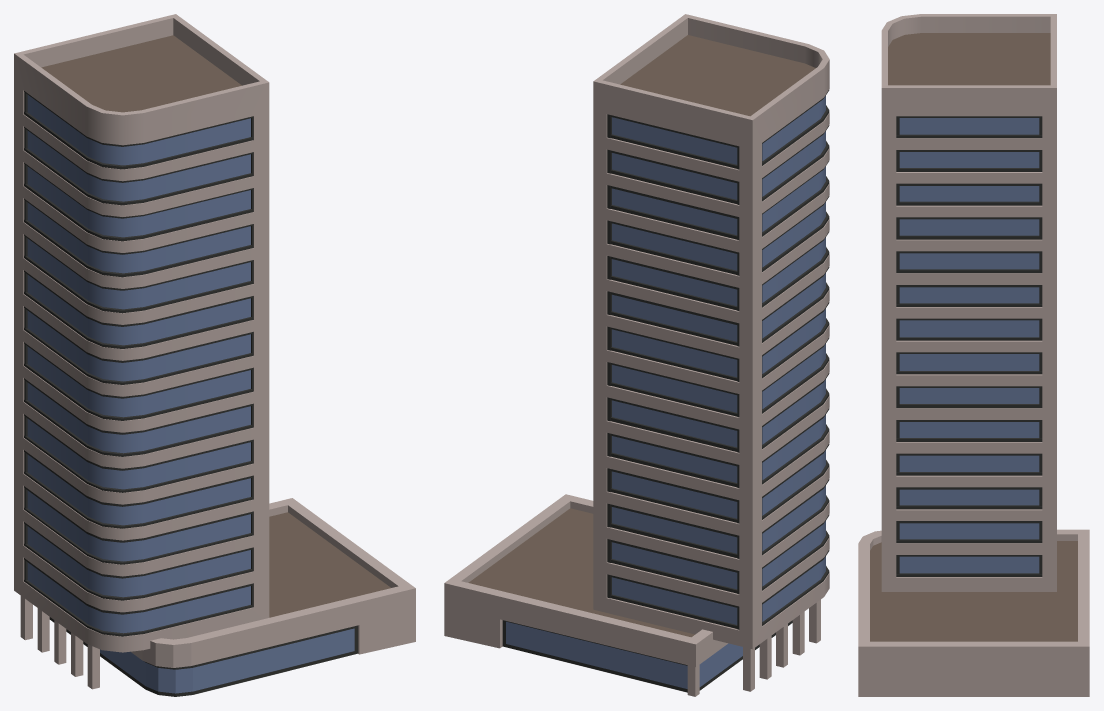
File: LargeBuilding_05.fbx
3 views of the same model, side by side, from view 1: azimuth 30°, elevation 25°; view 2: azimuth 150°, elevation 25°; view 3: azimuth 270°, elevation 25° (orthographic). The views are drawn at different scales.
Parts seen in each view (by area): view 1: LargeBuilding_05; view 2: LargeBuilding_05; view 3: LargeBuilding_05.
Part boxes in pixels (left/top/right/bottom): LargeBuilding_05: left=14, top=14, right=415, bottom=696; LargeBuilding_05: left=444, top=14, right=829, bottom=696; LargeBuilding_05: left=858, top=14, right=1089, bottom=696.
Bounding box in the file's own units: 29.63 × 55.8 × 21.4.
